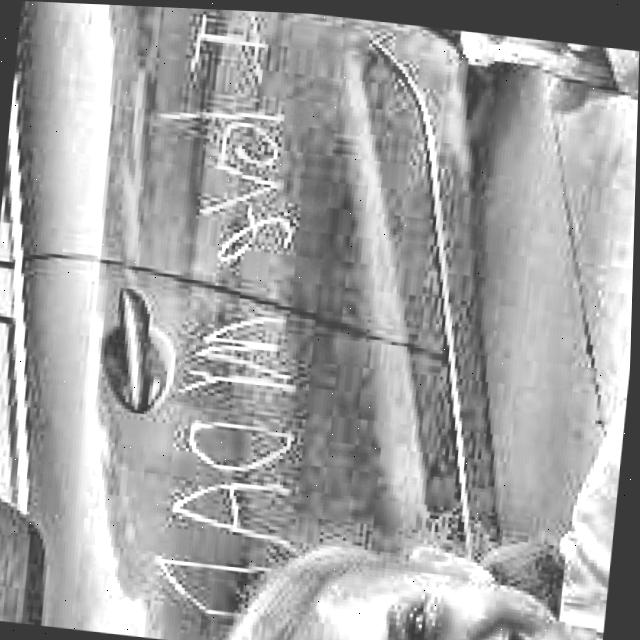door_scratch: (111, 6, 339, 631)
